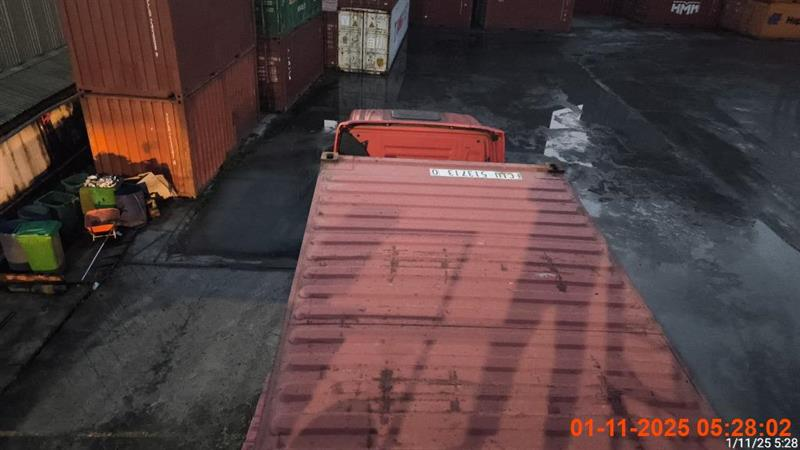broken: (330, 107, 506, 162)
